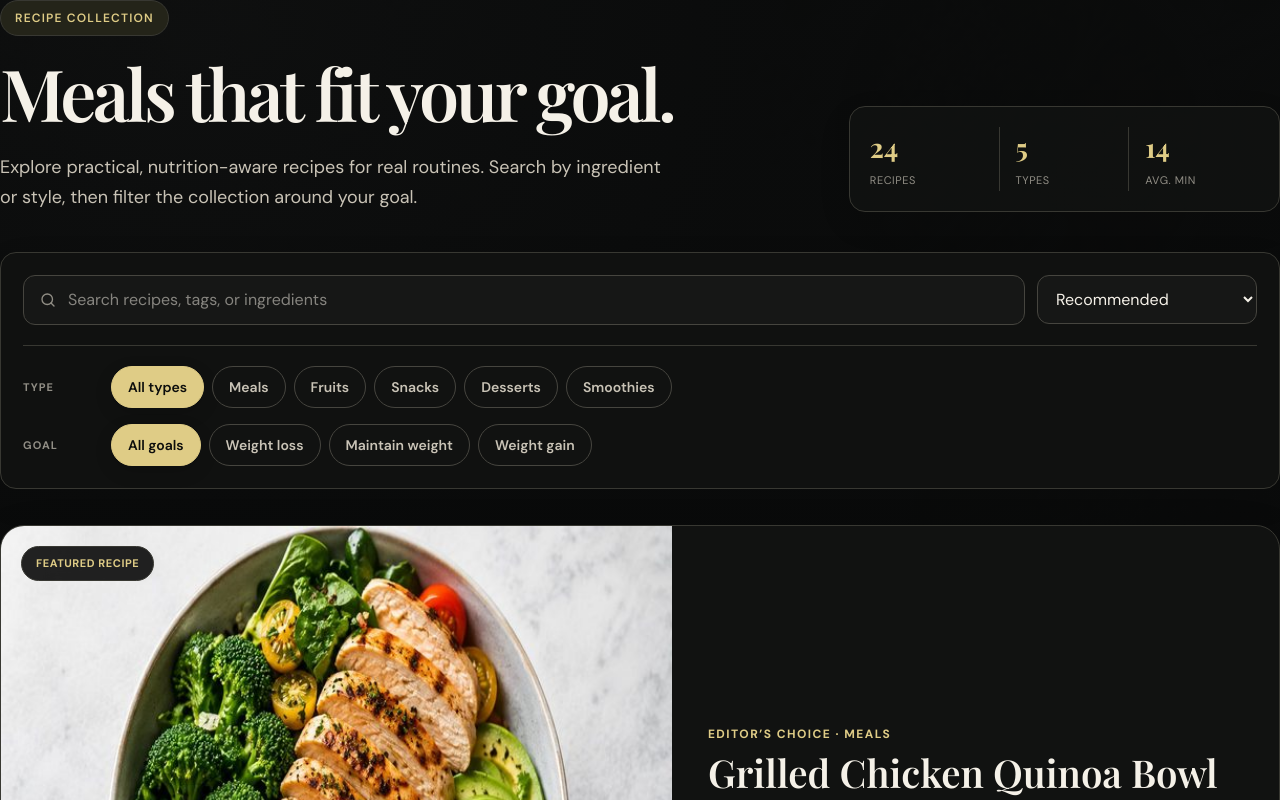
Test: RecipesPage › filters by search and category and can reset the collection
Type "lentils" into the field labelled "Search recipes" at (524, 300), box [23, 276, 1025, 326]
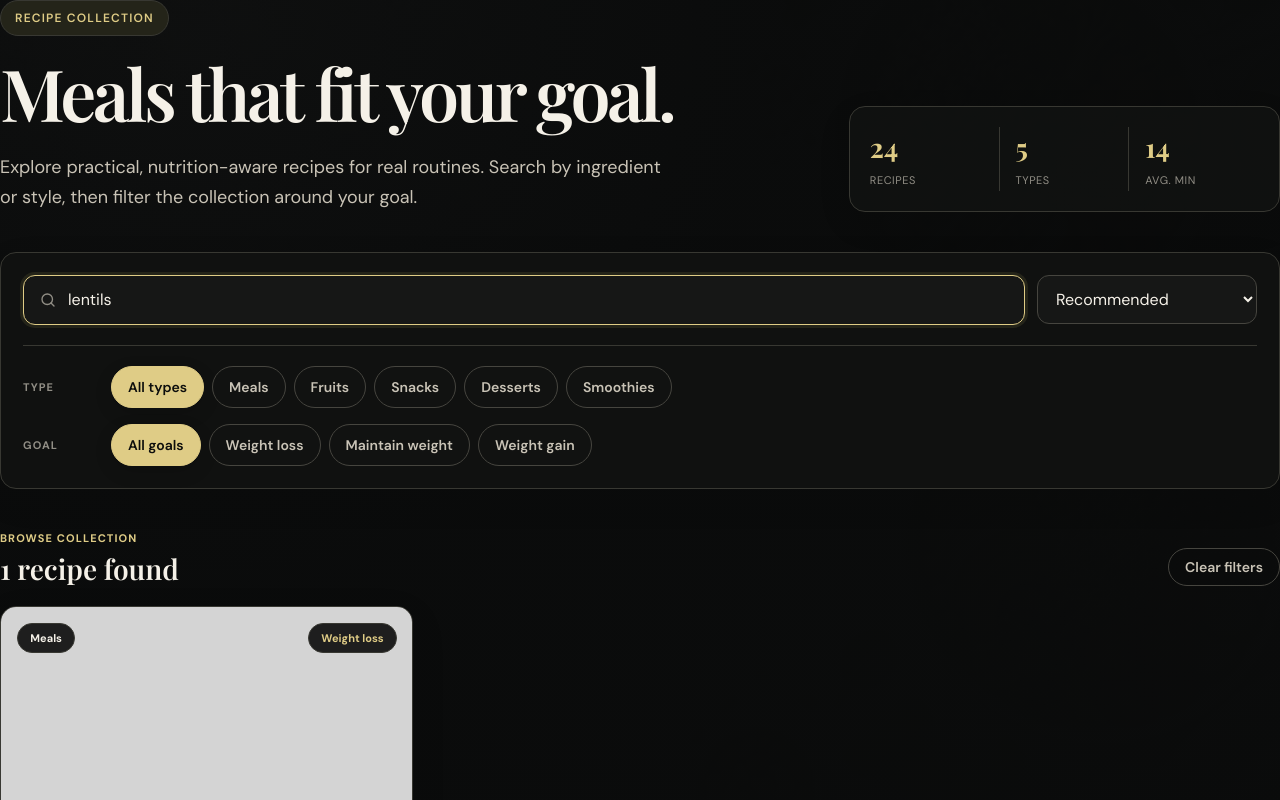
Check: the heading "1 recipe found" is shown, box [0, 554, 179, 586]
Click the button "Fruits" at (330, 388), box [294, 366, 366, 408]
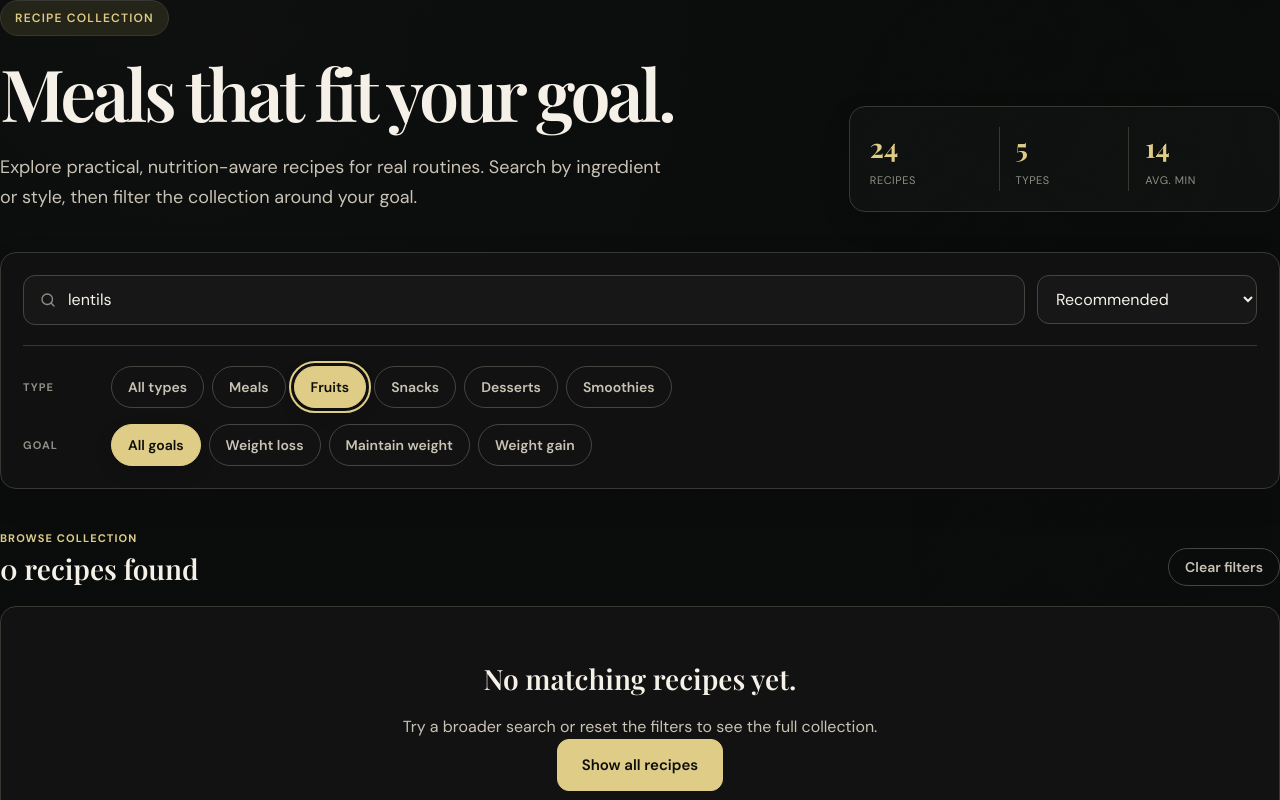
Check: the heading "No matching recipes yet." is shown, box [484, 660, 796, 697]
Click the button "Show all recipes" at (640, 765), box [557, 739, 723, 791]
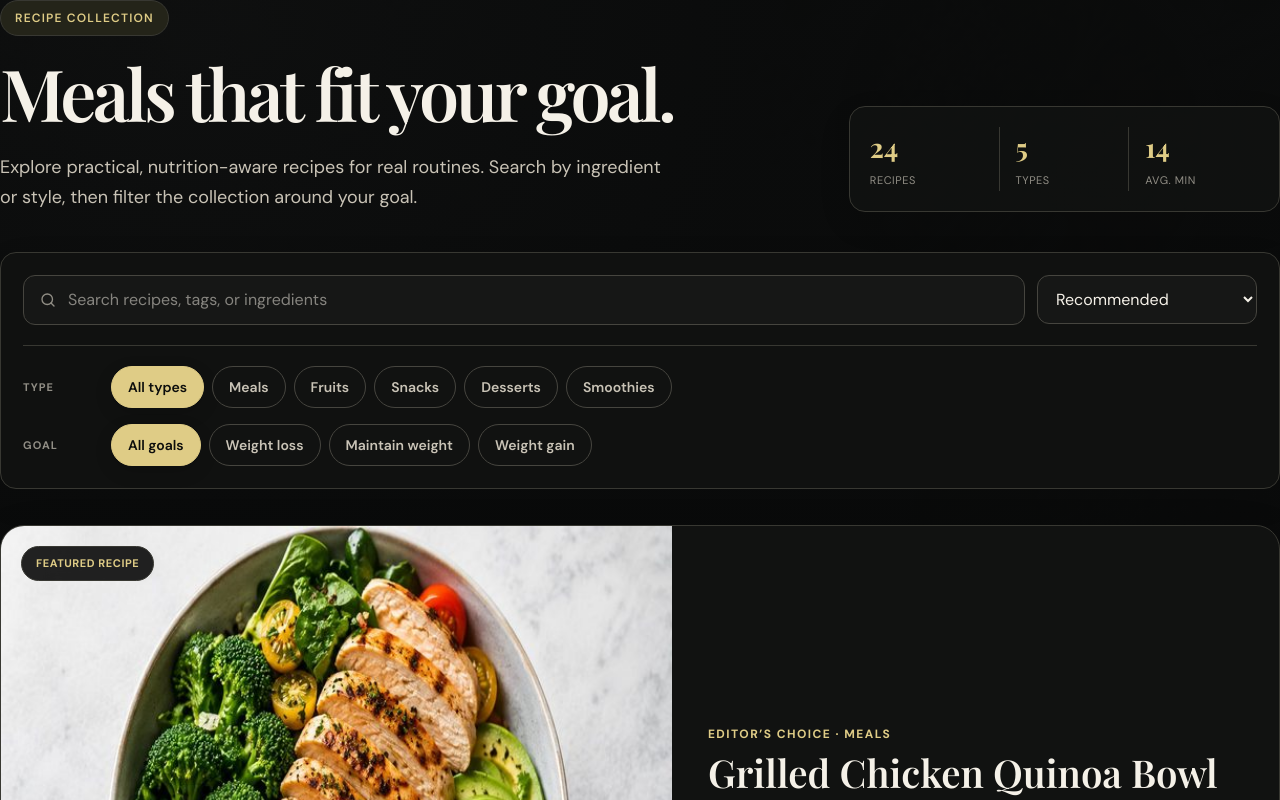
Check: the heading "No matching recipes yet." is gone
